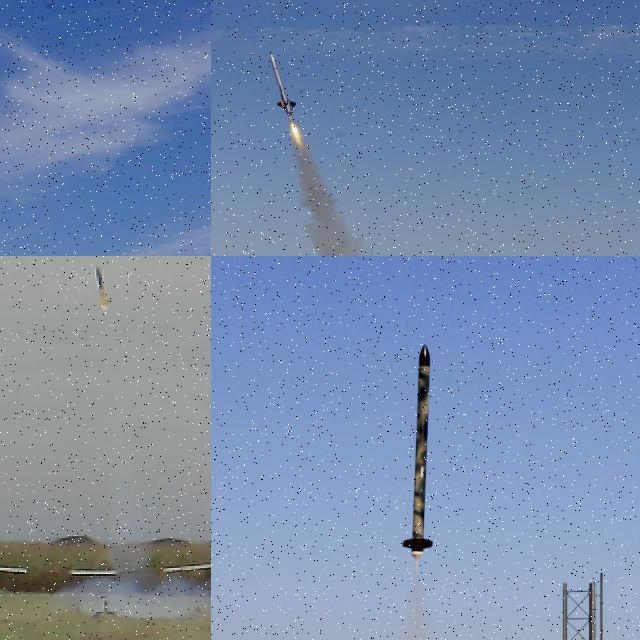Rocket: (401, 343, 435, 561), (269, 51, 297, 118), (95, 266, 115, 306)
